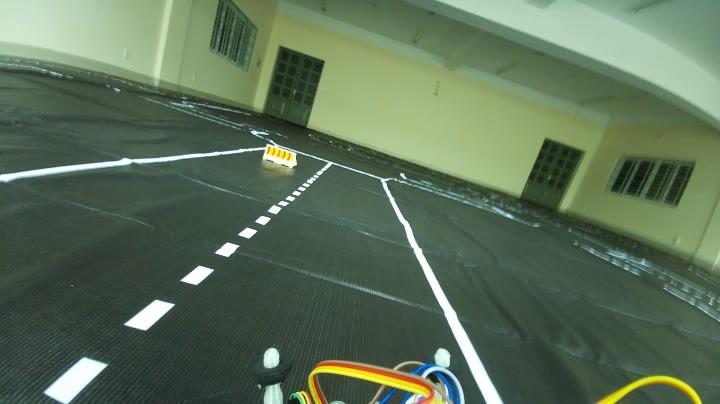roadblock: (262, 140, 298, 168)
